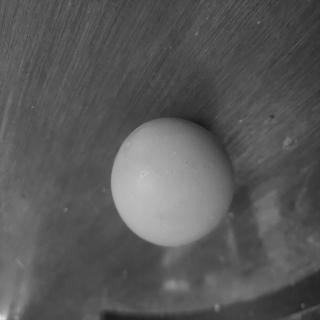Telur: (109, 118, 239, 250)
